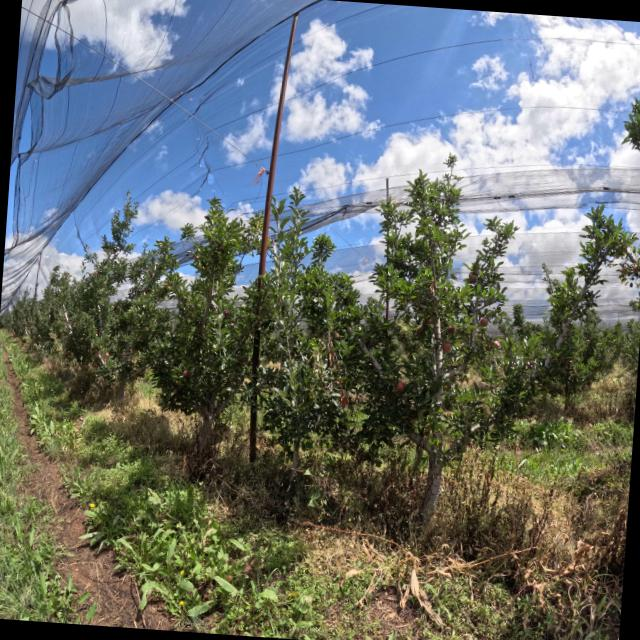-FireBlight-: (318, 331, 339, 371), (334, 379, 348, 411), (334, 330, 343, 338)
